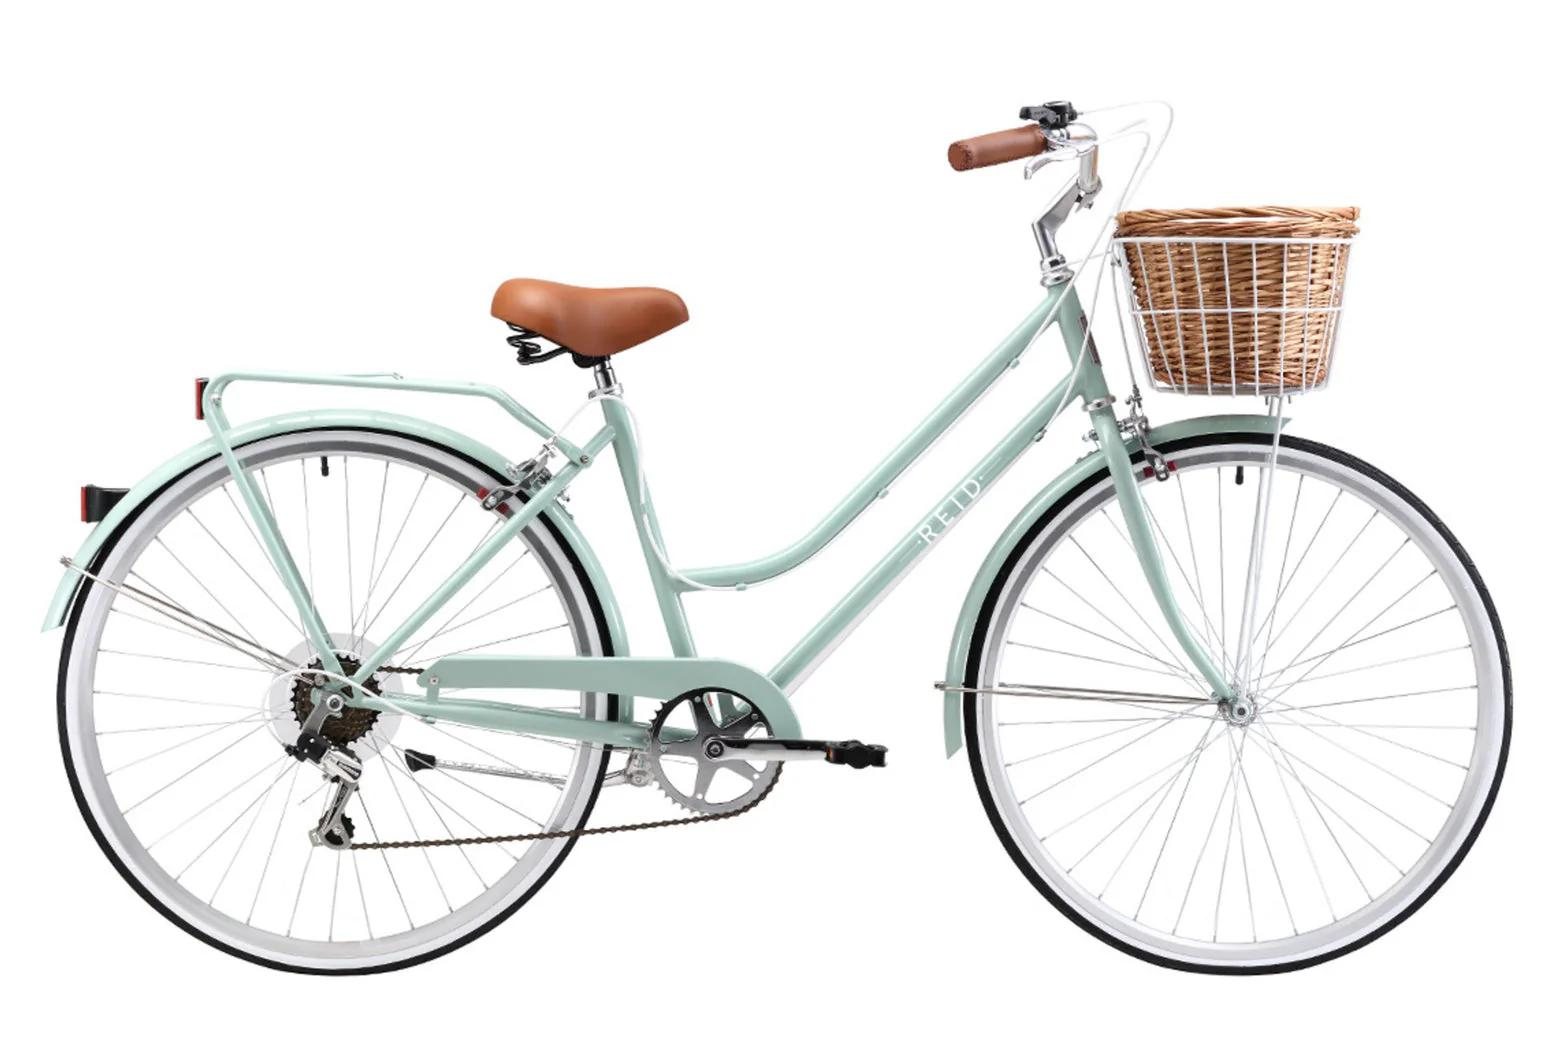bicycle: (40, 94, 1518, 987)
